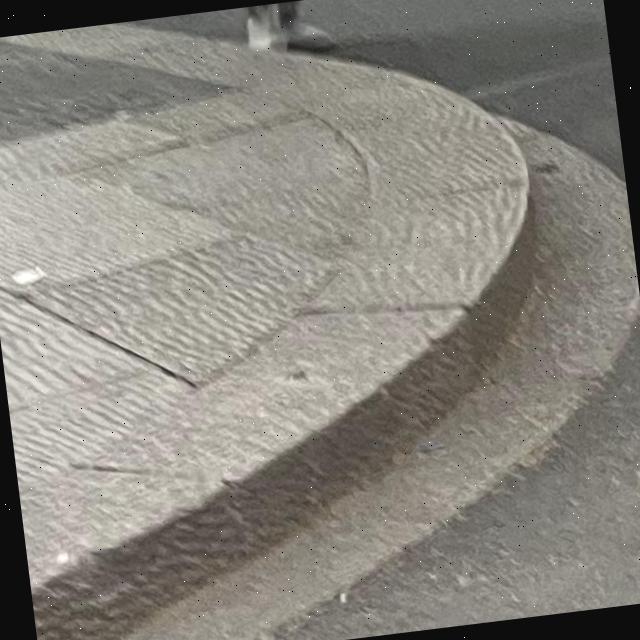curb: (4, 22, 533, 640)
